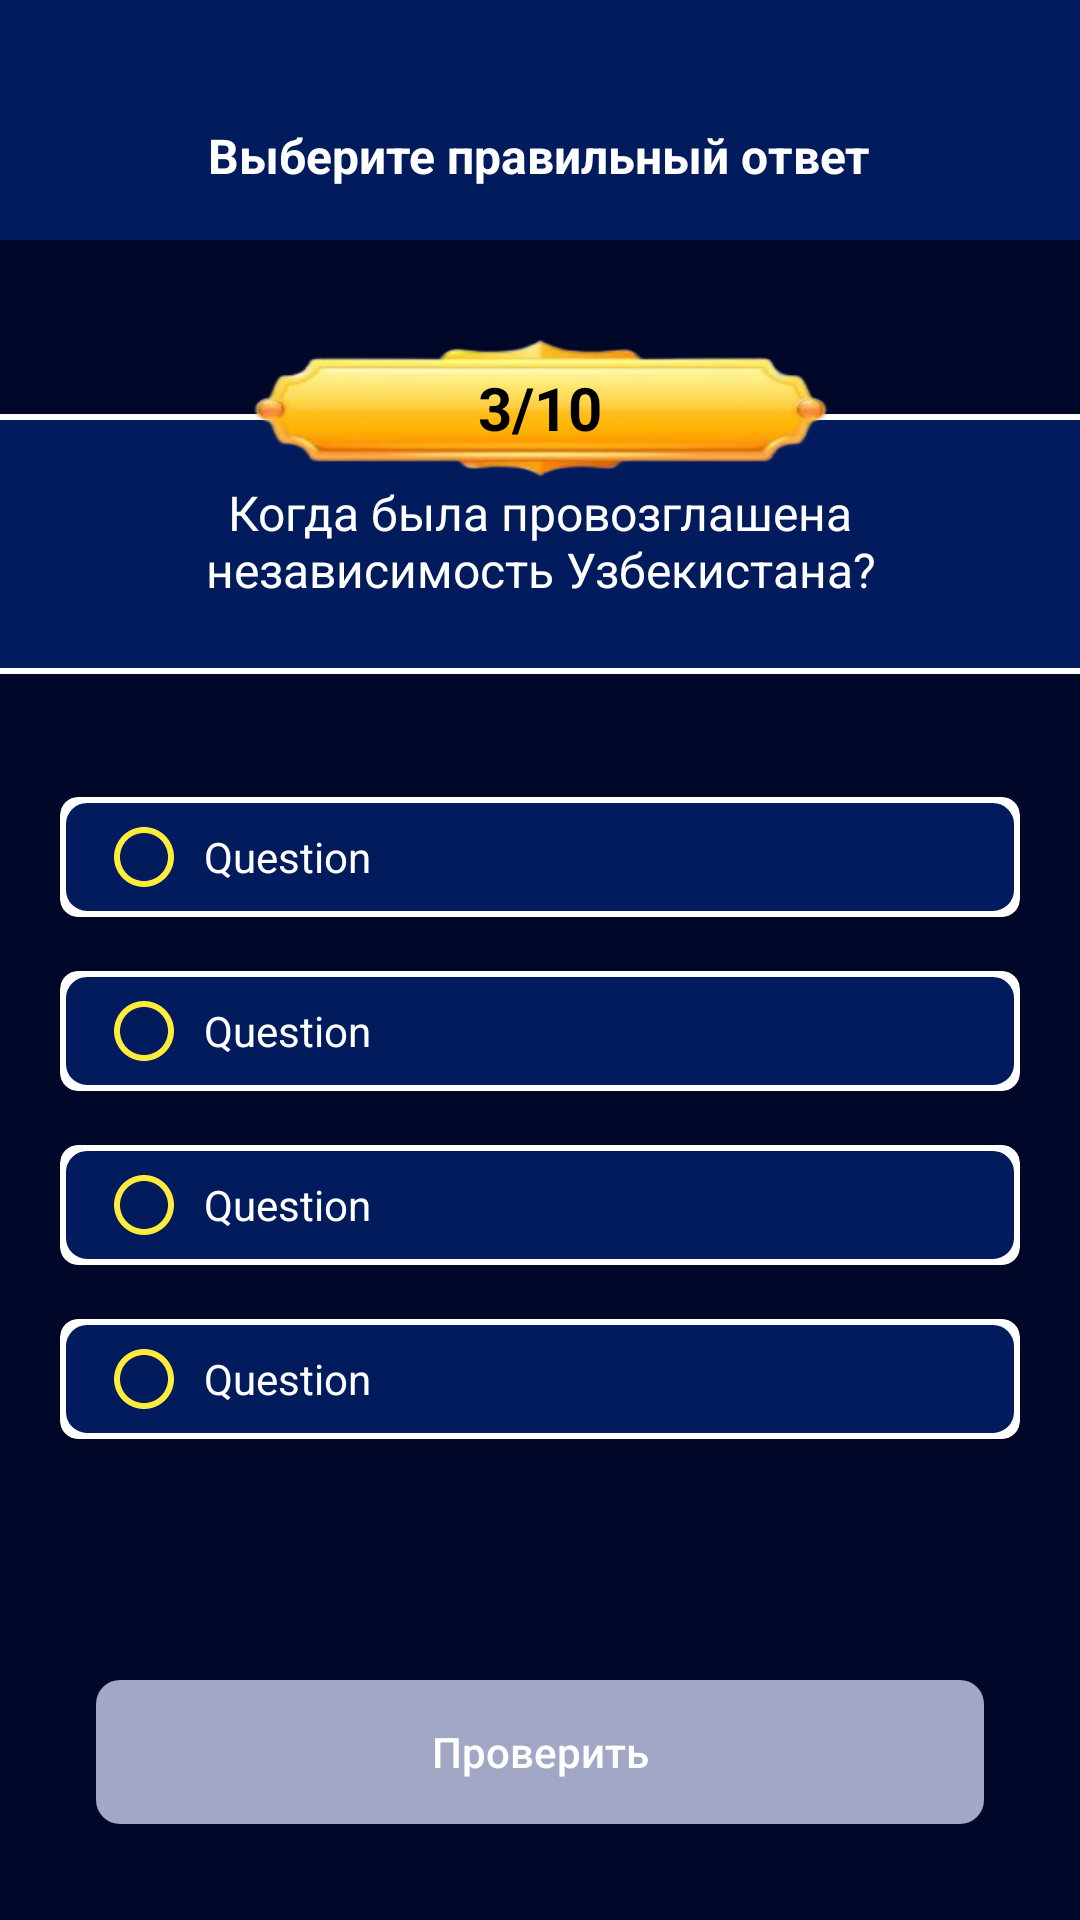

Screen size 1080w x 1920h. Icon name, then its center in pixels as (x=x, y=y):
unchecked: (x=144, y=857), (x=144, y=1031), (x=144, y=1205), (x=144, y=1379)
